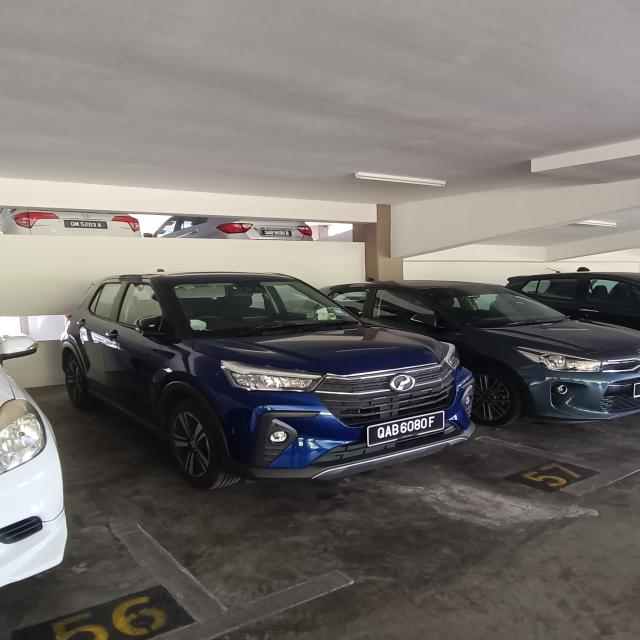PeroduaAtiva: (59, 269, 477, 490)
